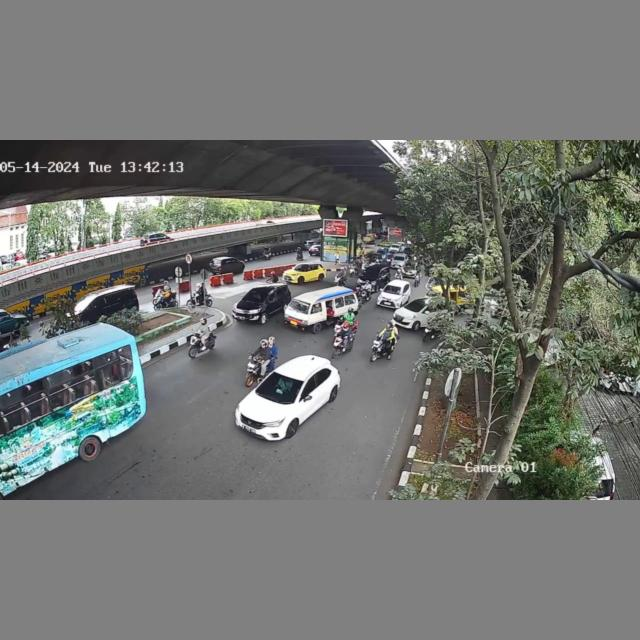windshield: (256, 370, 305, 400), (285, 297, 311, 312), (241, 290, 267, 302), (404, 301, 425, 313), (385, 284, 401, 294), (364, 268, 380, 278)
